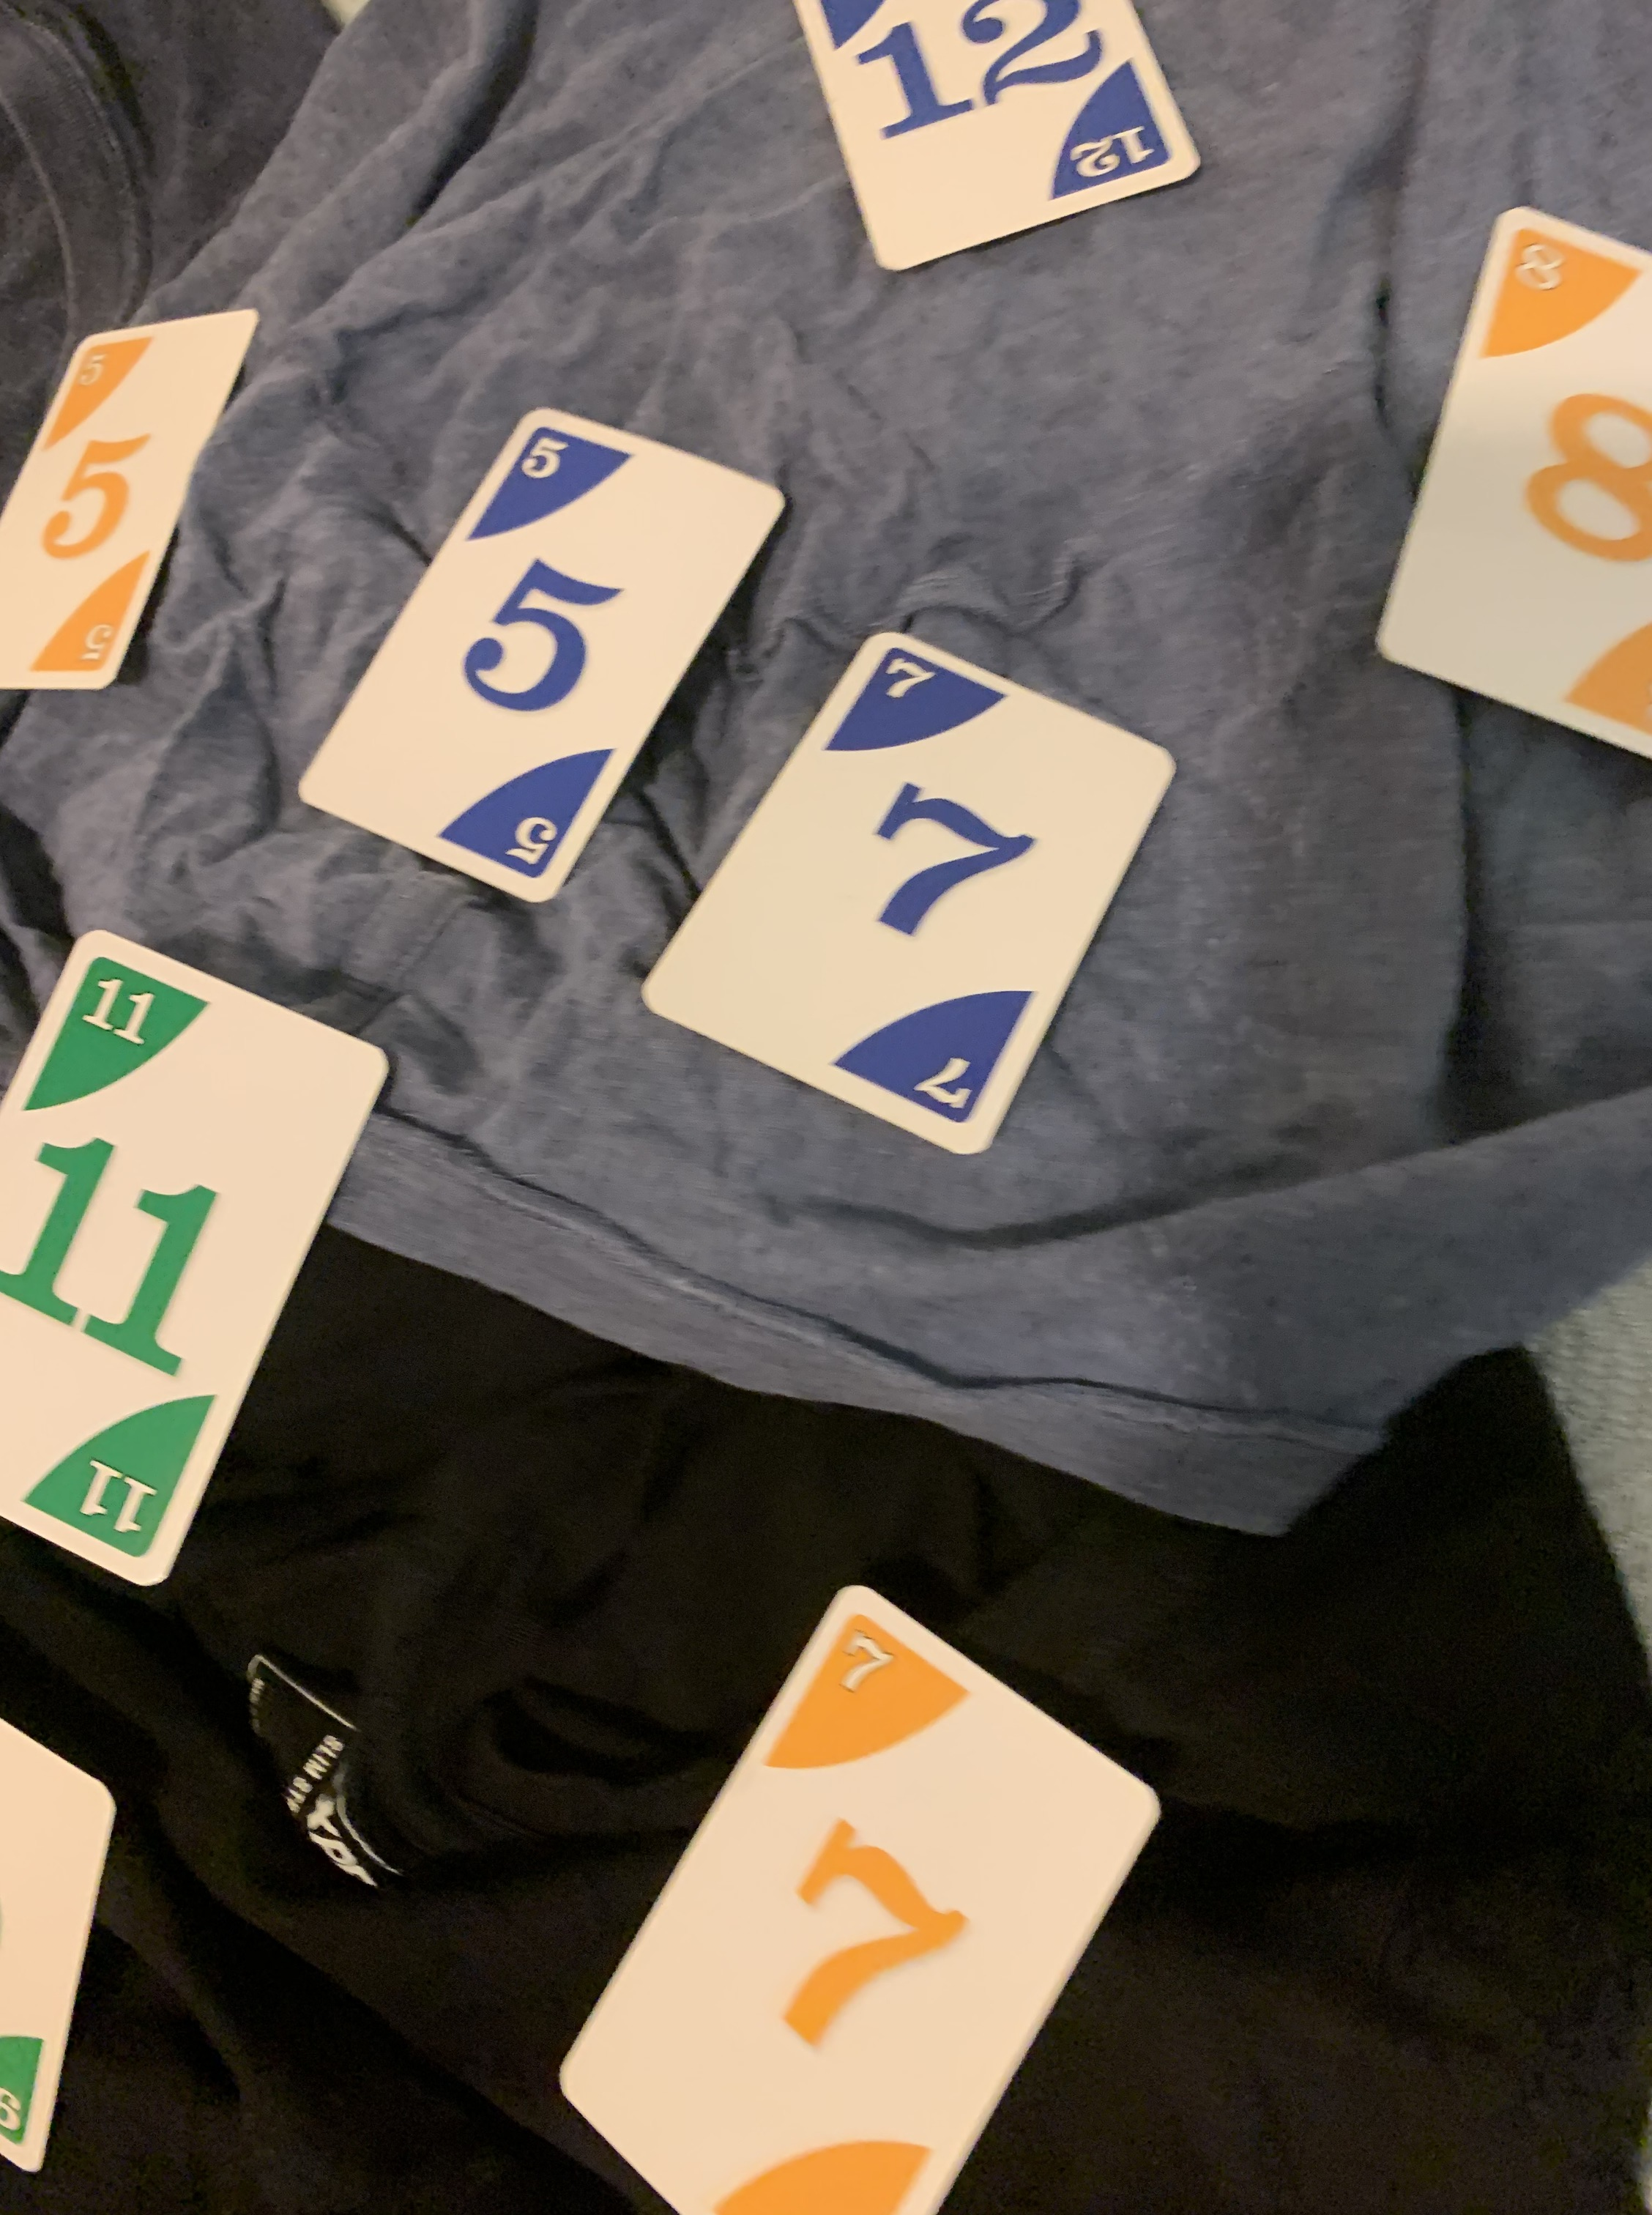eight: (1367, 201, 1652, 769)
eleven: (0, 929, 389, 1590)
five: (298, 406, 788, 899), (0, 306, 260, 701)
seven: (554, 1587, 1154, 2215), (649, 620, 1178, 1154)
twelve: (800, 0, 1192, 271)
